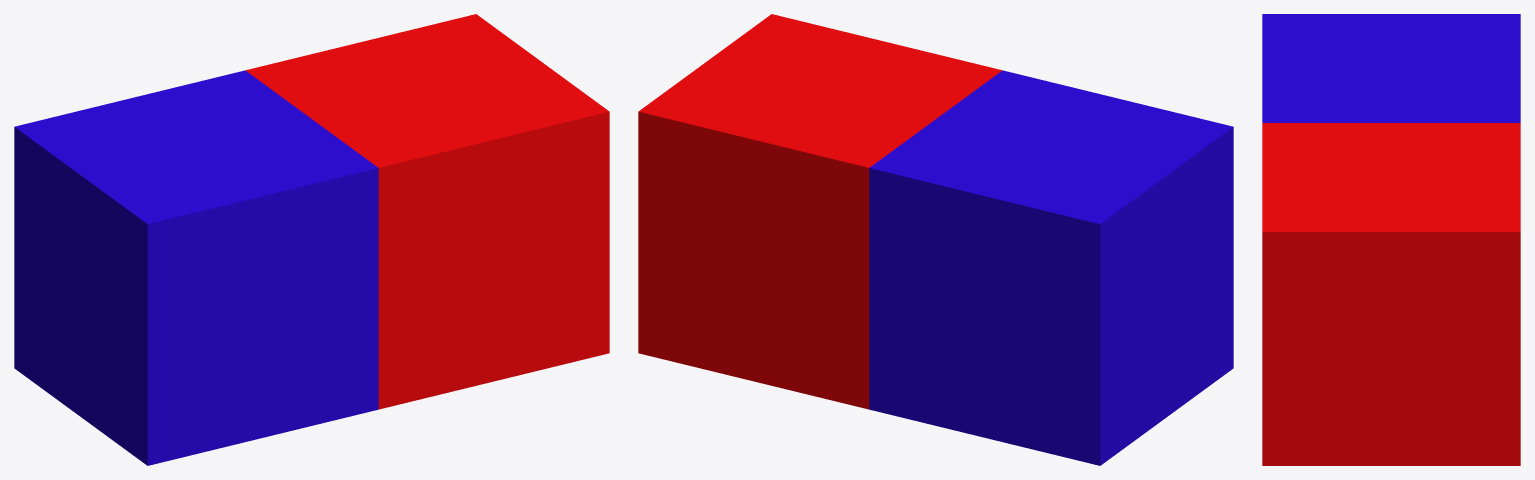
The picture shows the model from 3 angles, left to right: view 1: azimuth 30°, elevation 25°; view 2: azimuth 150°, elevation 25°; view 3: azimuth 270°, elevation 25°; orthographic projection. The views are drawn at different scales.
Parts seen in each view (by area): view 1: asset-1, asset-2; view 2: asset-1, asset-2; view 3: asset-2, asset-1.
Boxes of the visible parts, x1,y1,x2,y2 form: asset-1: [14, 70, 378, 465]; asset-2: [246, 14, 609, 409]; asset-1: [869, 70, 1233, 465]; asset-2: [638, 14, 1001, 409]; asset-2: [1262, 123, 1520, 465]; asset-1: [1262, 14, 1520, 122].
Bounding box in the file's own units: 4 × 2 × 2.
